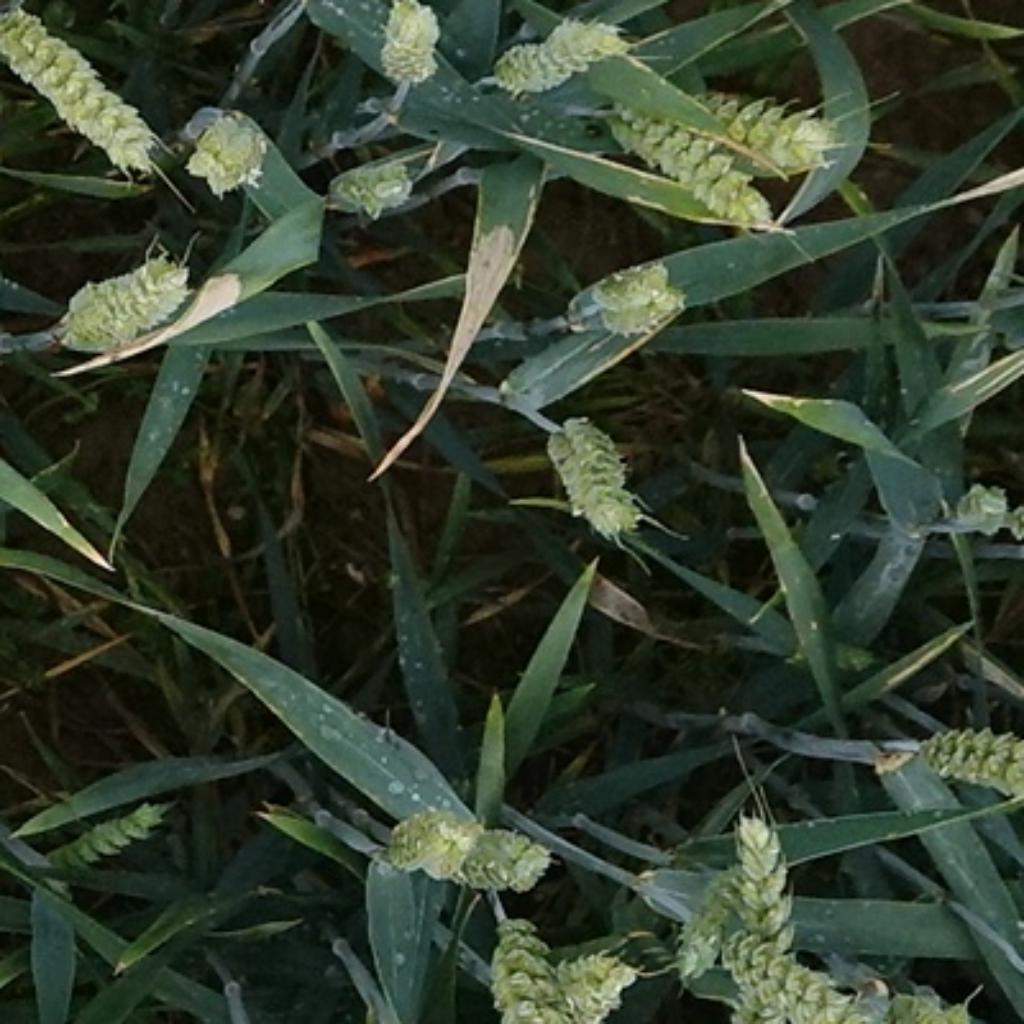0-0: (0, 0, 163, 184), (586, 94, 788, 230), (719, 785, 798, 1024), (537, 399, 649, 548), (50, 246, 200, 356), (678, 89, 847, 176), (715, 929, 865, 1024), (483, 4, 627, 96), (171, 94, 272, 201), (372, 793, 483, 890), (40, 785, 166, 867), (585, 252, 690, 345), (909, 724, 1024, 806), (483, 916, 568, 1024), (448, 819, 555, 898), (320, 145, 422, 219), (371, 0, 450, 95), (565, 942, 652, 1024), (675, 883, 737, 977), (940, 473, 1016, 549), (886, 966, 985, 1024)
